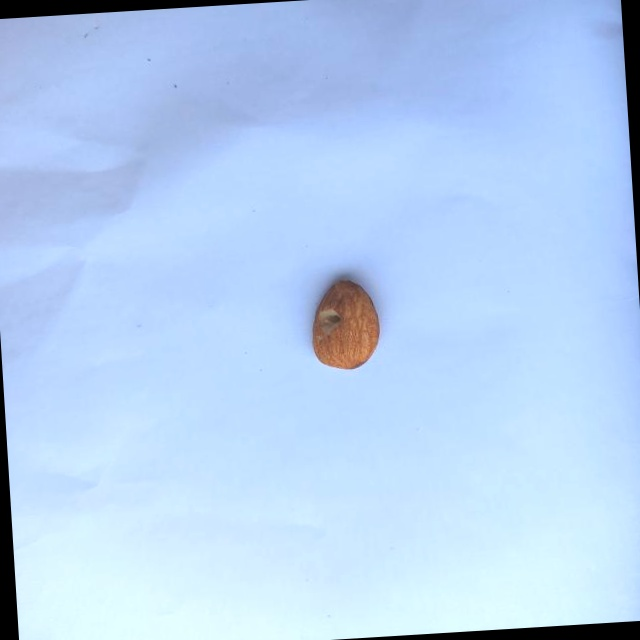grade3: (303, 273, 384, 376)
